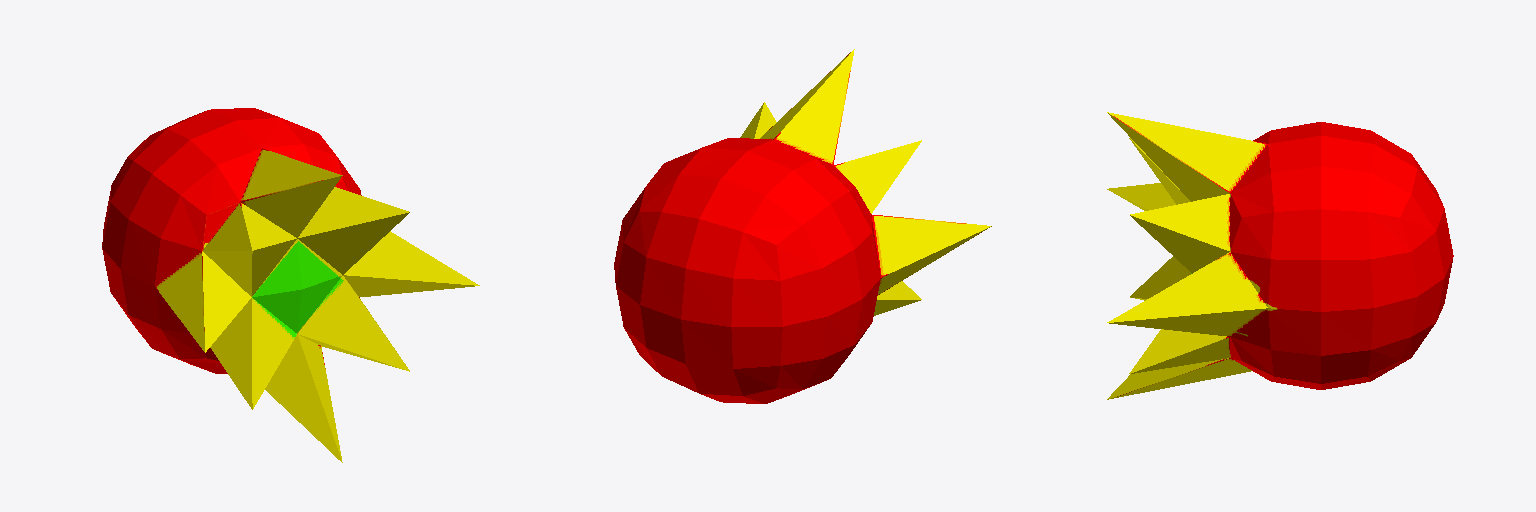
3 renders of one model, left to right at view 1: azimuth 30°, elevation 25°; view 2: azimuth 150°, elevation 25°; view 3: azimuth 270°, elevation 25°, orthographic.
Parts seen in each view (by area): view 1: Cube; view 2: Cube; view 3: Cube.
Boxes of the visible parts, x1=… form: Cube: x1=102, y1=108, x2=479, y2=462; Cube: x1=614, y1=49, x2=991, y2=403; Cube: x1=1107, y1=112, x2=1453, y2=399.
Size of the model in its own units: 1.32 by 1.32 by 1.44.
1 materials, 1 textured.